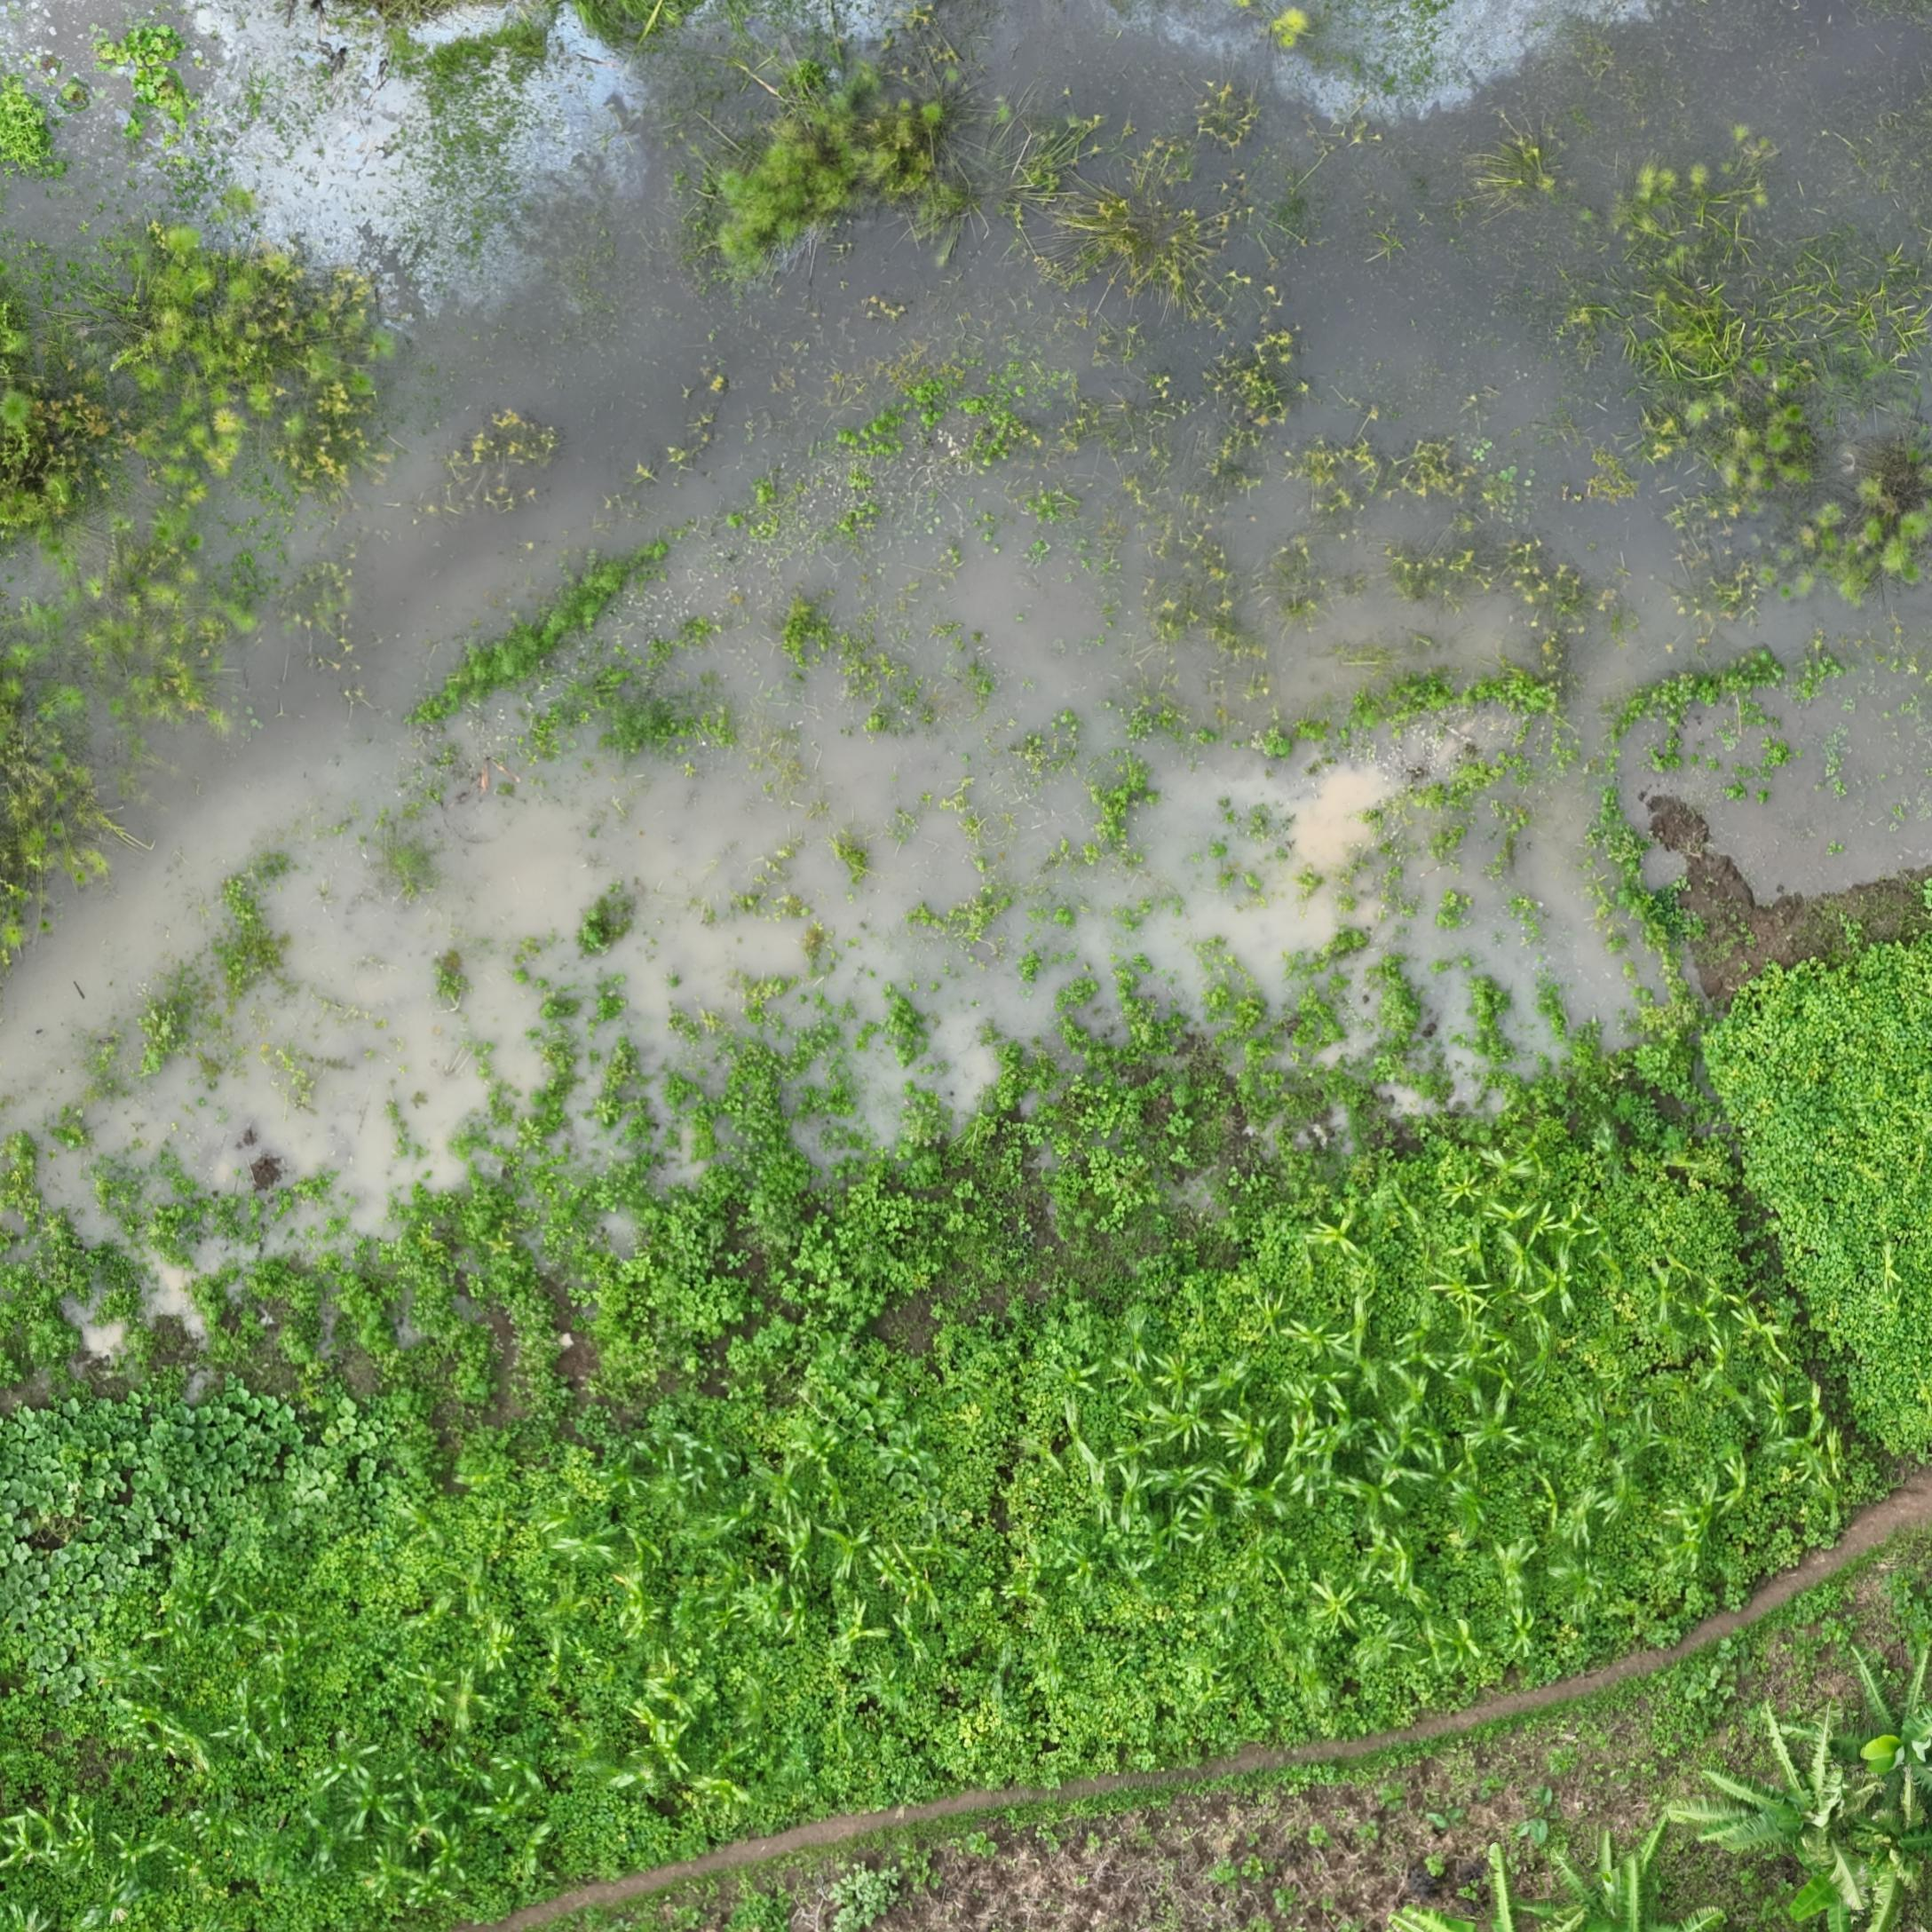Banana: (1764, 1776, 1932, 1932), (1852, 1713, 1932, 1877)
